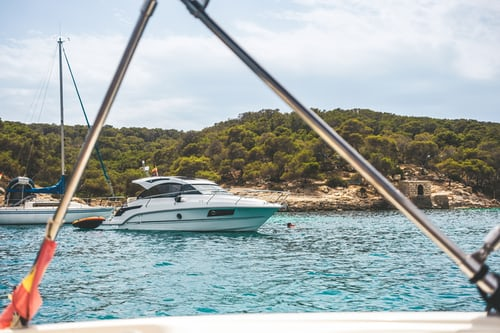yacht: (92, 158, 302, 240)
